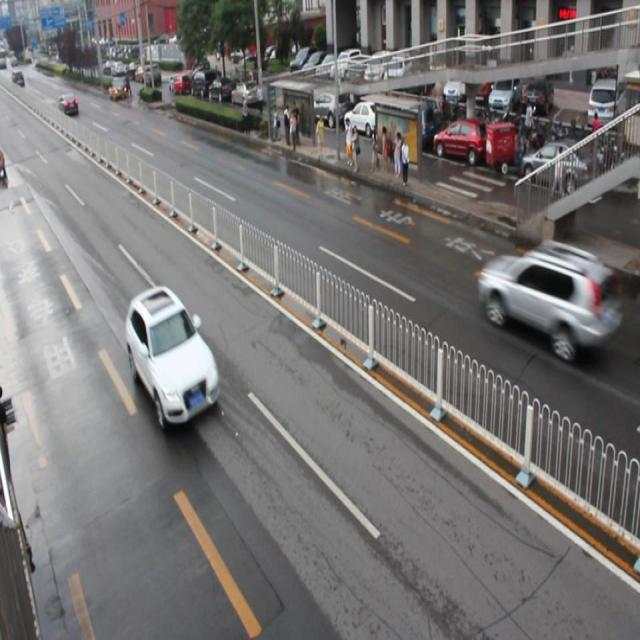car: (475, 237, 619, 364), (126, 286, 220, 422)
